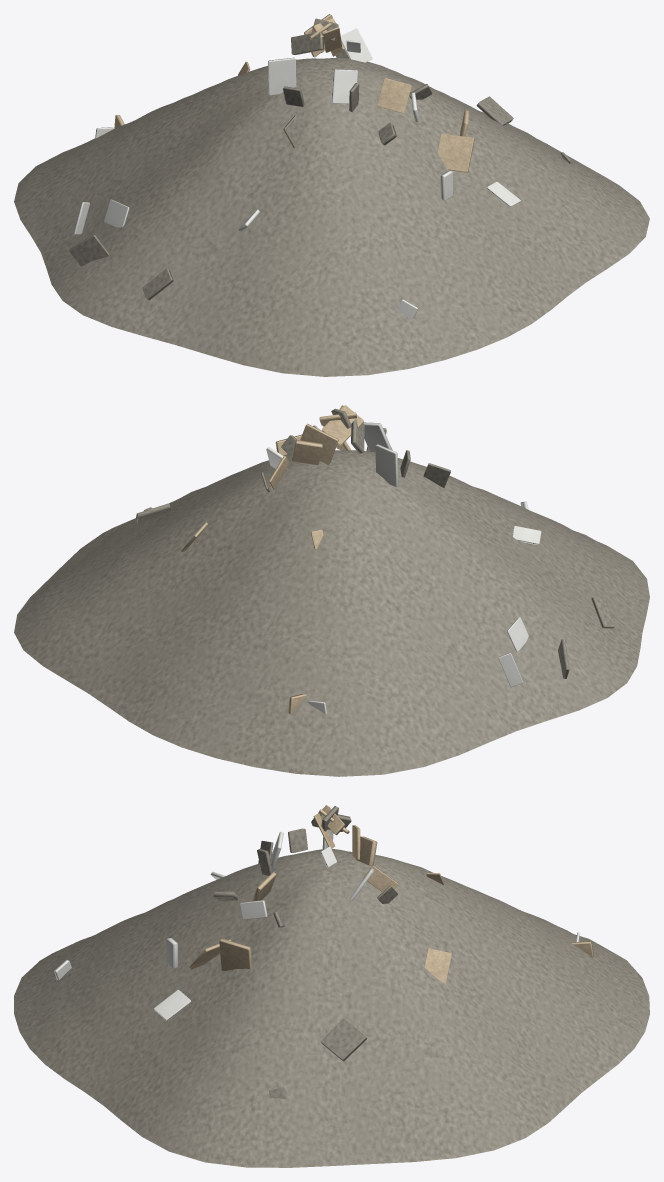
The model's file is SER-DEM-003.glb.
3 views of the same model, one above another, from view 1: azimuth 30°, elevation 25°; view 2: azimuth 150°, elevation 25°; view 3: azimuth 270°, elevation 25° (orthographic). The views are drawn at different scales.
Visible parts, largest first — view 1: SER-DEM-003_monte, SER-DEM-003_caco1, SER-DEM-003_caco18, SER-DEM-003_caco28, SER-DEM-003_caco9, SER-DEM-003_caco8, SER-DEM-003_caco17, SER-DEM-003_caco0, SER-DEM-003_caco2, SER-DEM-003_caco6; view 2: SER-DEM-003_monte, SER-DEM-003_caco18, SER-DEM-003_caco19, SER-DEM-003_caco31, SER-DEM-003_caco25, SER-DEM-003_caco9; view 3: SER-DEM-003_monte, SER-DEM-003_caco2, SER-DEM-003_caco16, SER-DEM-003_caco22, SER-DEM-003_caco30.
Boxes of the visible parts, x1,y1,x2,y2 form: SER-DEM-003_monte: [14, 57, 649, 376]; SER-DEM-003_caco1: [437, 134, 474, 172]; SER-DEM-003_caco18: [268, 57, 296, 95]; SER-DEM-003_caco28: [377, 78, 411, 113]; SER-DEM-003_caco9: [331, 69, 357, 103]; SER-DEM-003_caco8: [69, 234, 109, 266]; SER-DEM-003_caco17: [291, 32, 324, 54]; SER-DEM-003_caco0: [340, 28, 372, 62]; SER-DEM-003_caco2: [476, 96, 513, 125]; SER-DEM-003_caco6: [104, 199, 129, 227]; SER-DEM-003_monte: [14, 450, 649, 776]; SER-DEM-003_caco18: [375, 444, 398, 486]; SER-DEM-003_caco19: [300, 423, 338, 464]; SER-DEM-003_caco31: [292, 440, 322, 465]; SER-DEM-003_caco25: [322, 405, 363, 445]; SER-DEM-003_caco9: [363, 422, 392, 452]; SER-DEM-003_monte: [14, 849, 649, 1167]; SER-DEM-003_caco2: [320, 1018, 366, 1061]; SER-DEM-003_caco16: [219, 938, 252, 970]; SER-DEM-003_caco22: [424, 948, 451, 983]; SER-DEM-003_caco30: [154, 989, 191, 1020].
Size of the model in its own units: 1.63 by 0.6334 by 1.64.
3 materials, 3 textured.
